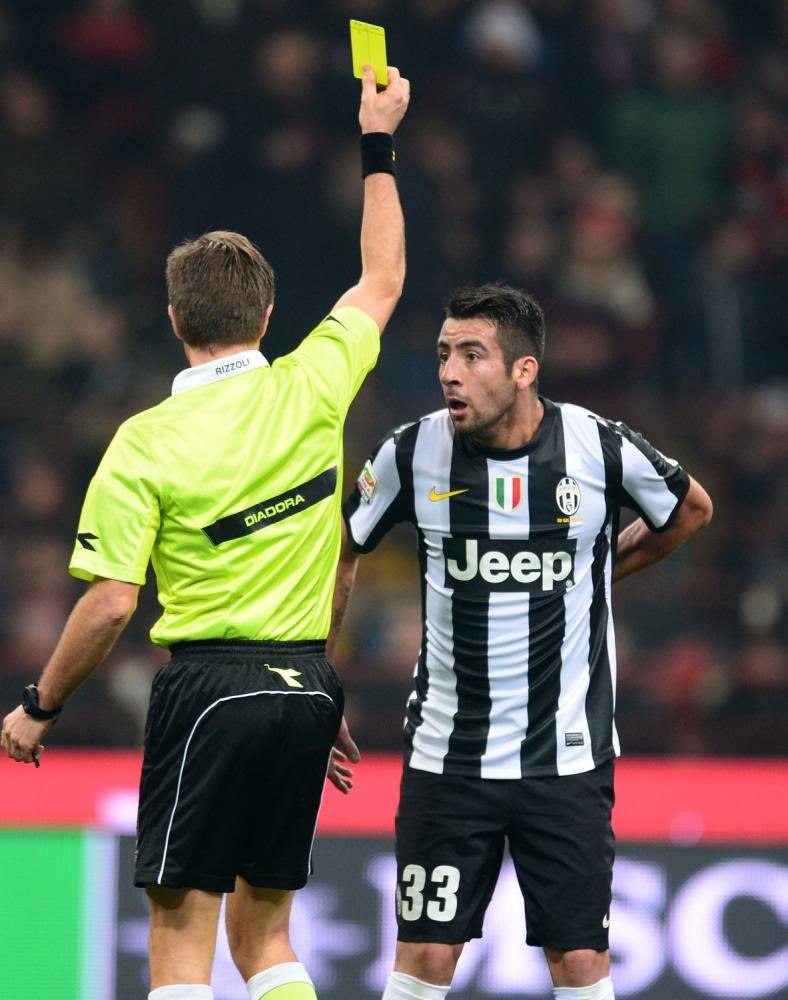yellow_card: (328, 13, 435, 140)
